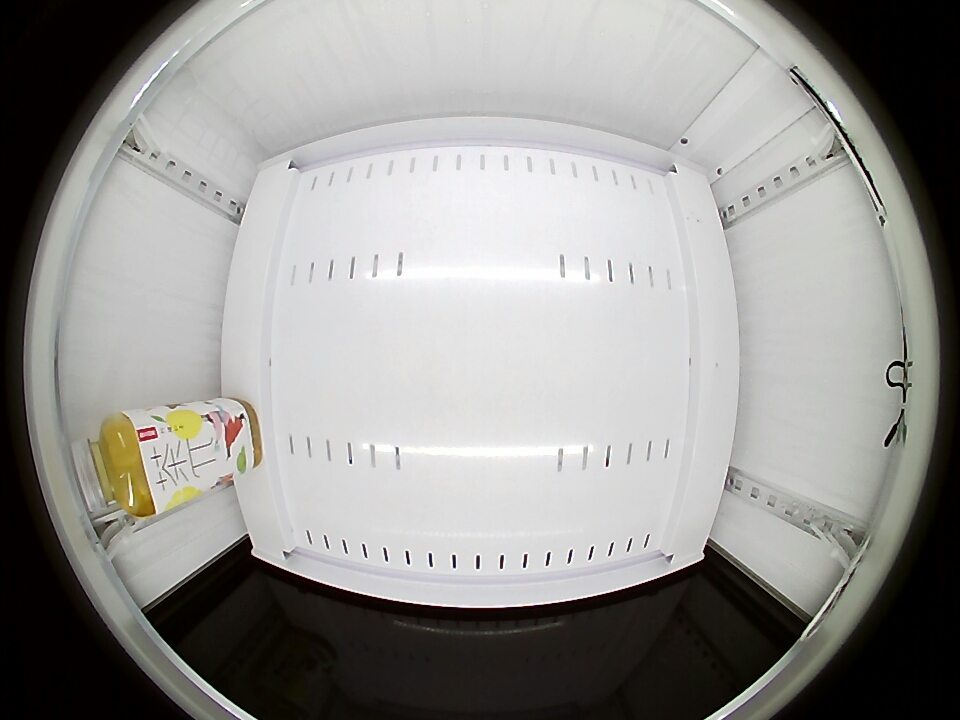chapai: (87, 409, 169, 517)
